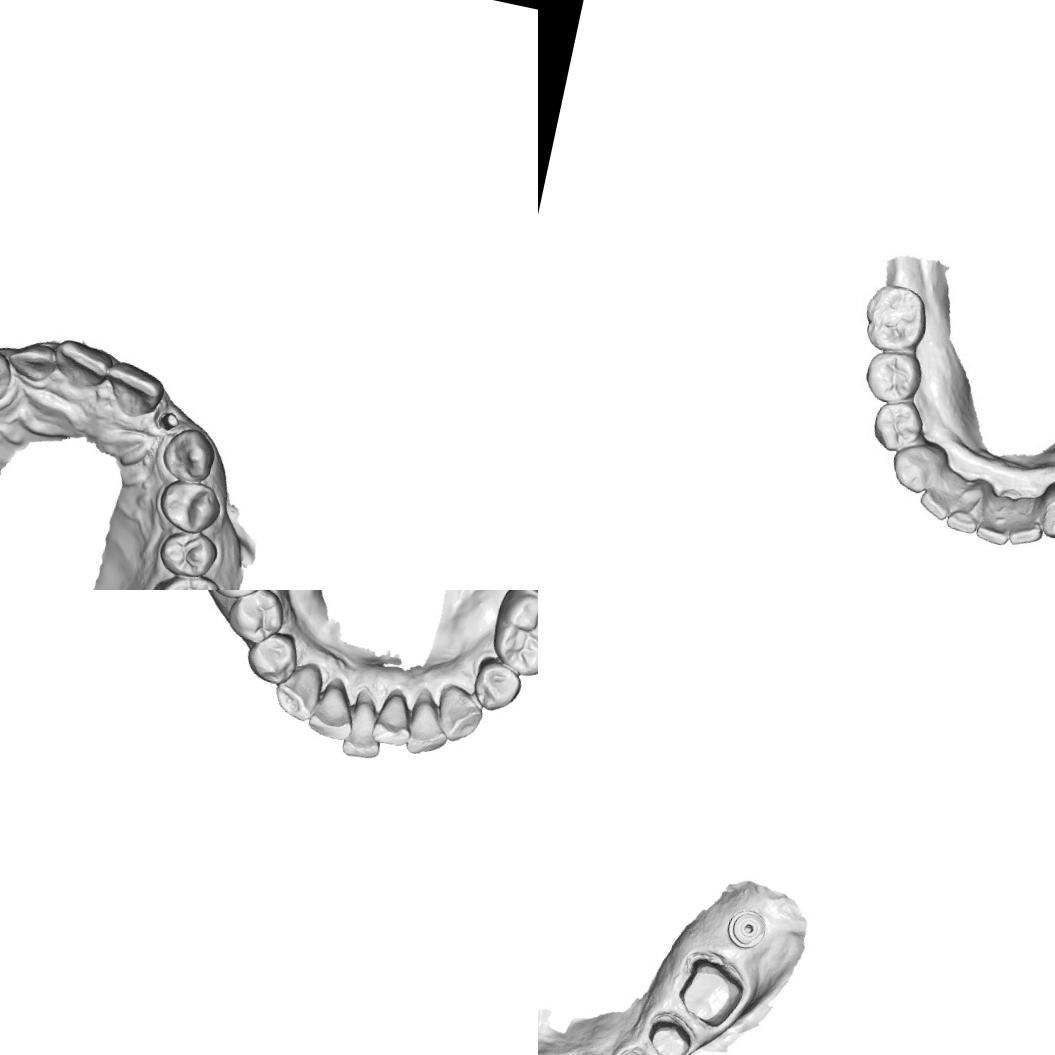canine: (156, 423, 222, 488), (269, 656, 326, 724), (430, 682, 488, 747), (889, 438, 946, 498), (1035, 481, 1055, 546), (0, 340, 17, 407)
crown: (672, 952, 750, 1034), (642, 1009, 697, 1055)
implant: (722, 904, 772, 954)
incisor: (98, 352, 172, 426), (48, 333, 117, 395), (338, 684, 392, 762), (403, 684, 458, 760), (304, 673, 362, 744), (2, 332, 62, 388), (369, 684, 419, 750), (980, 488, 1024, 548), (1008, 496, 1050, 548), (919, 471, 957, 523), (946, 482, 982, 535)
molar: (863, 285, 934, 356), (484, 590, 538, 682), (137, 564, 230, 590)
premolar: (154, 470, 228, 539), (151, 523, 222, 584), (221, 590, 291, 649), (242, 625, 303, 688), (467, 652, 527, 716), (861, 348, 920, 404), (867, 397, 920, 455)
